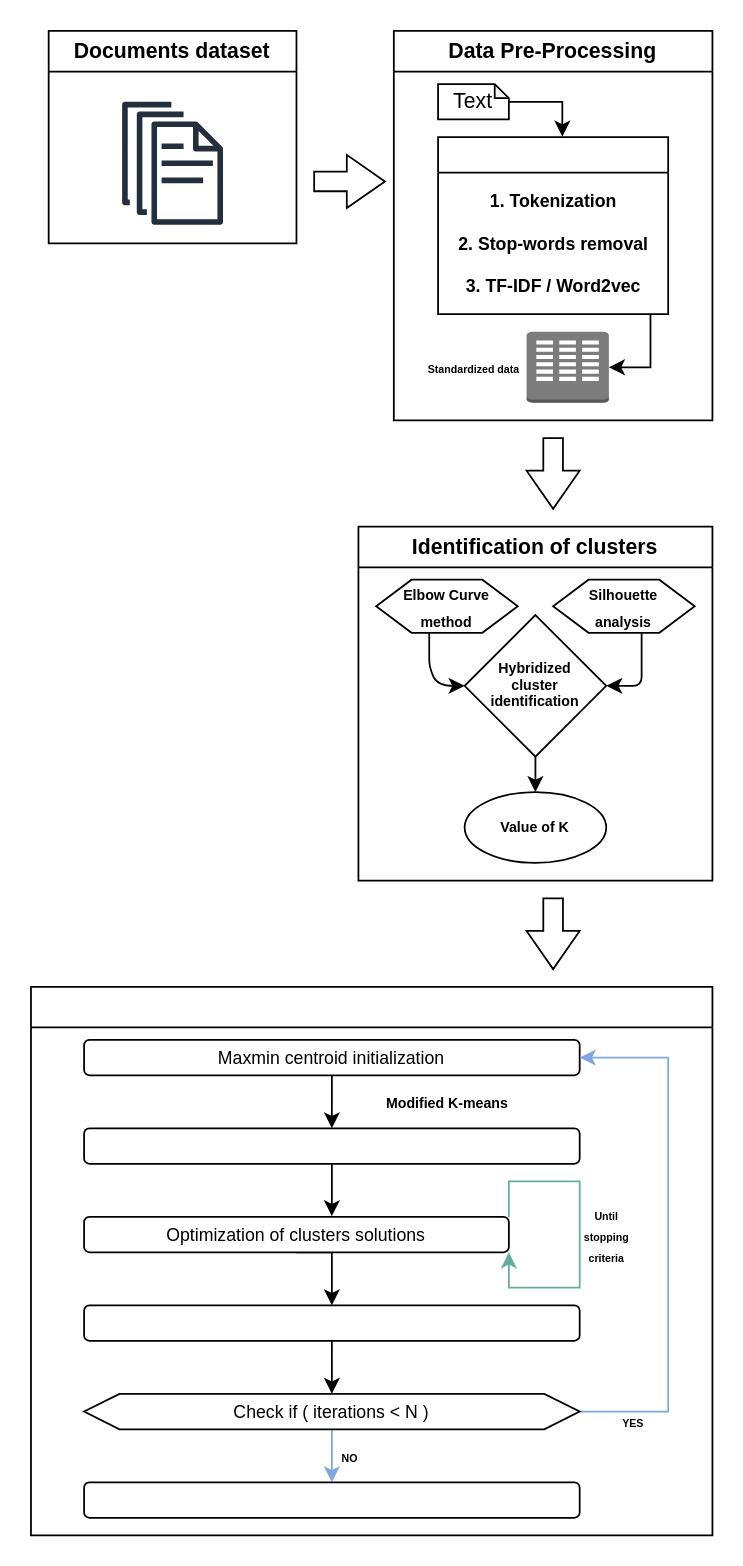
This 743x1566 diagram has some shape labels left out. Here are the shapes that lost their labels. From the top down, the box of each, then its label:
(436, 135, 668, 314): Feature Extraction
(82, 1127, 580, 1164): Creation of K clusters
(29, 985, 712, 1535): Multi-objective hybridized optimization
(82, 1304, 580, 1341): Optimized Clusters obtained
(82, 1481, 580, 1518): Best solutions obtained
